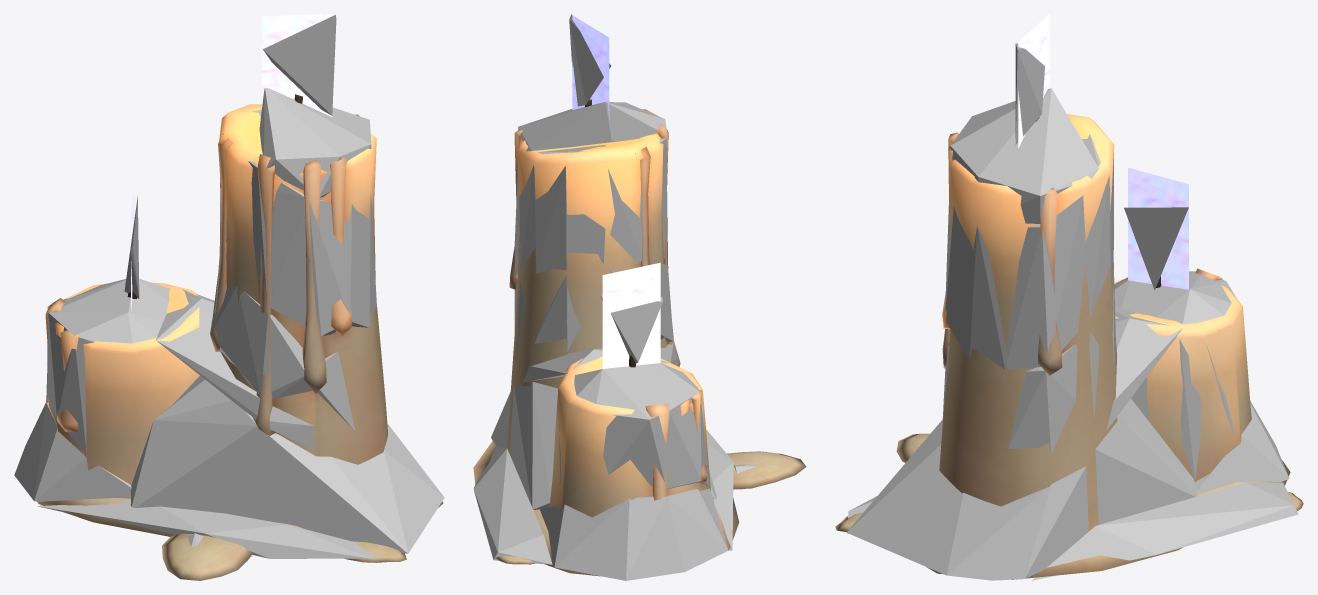
Rendered from SM_Candle_c.fbx.
The picture shows the model from 3 angles, left to right: view 1: azimuth 30°, elevation 25°; view 2: azimuth 150°, elevation 25°; view 3: azimuth 270°, elevation 25°; orthographic projection. The views are drawn at different scales.
Parts seen in each view (by area): view 1: SM_Candle_c_ConvexHulls, SM_Candle_c; view 2: SM_Candle_c_ConvexHulls, SM_Candle_c; view 3: SM_Candle_c_ConvexHulls, SM_Candle_c.
Part boxes in pixels (x1,y1,x2,y2): SM_Candle_c_ConvexHulls: [14, 15, 444, 558]; SM_Candle_c: [37, 14, 443, 580]; SM_Candle_c_ConvexHulls: [473, 14, 756, 580]; SM_Candle_c: [473, 15, 806, 576]; SM_Candle_c_ConvexHulls: [846, 43, 1298, 580]; SM_Candle_c: [835, 14, 1303, 579].
Size of the model in its own units: 20.27 by 24.83 by 29.15.
Materials: 2 (1 with a texture image).
